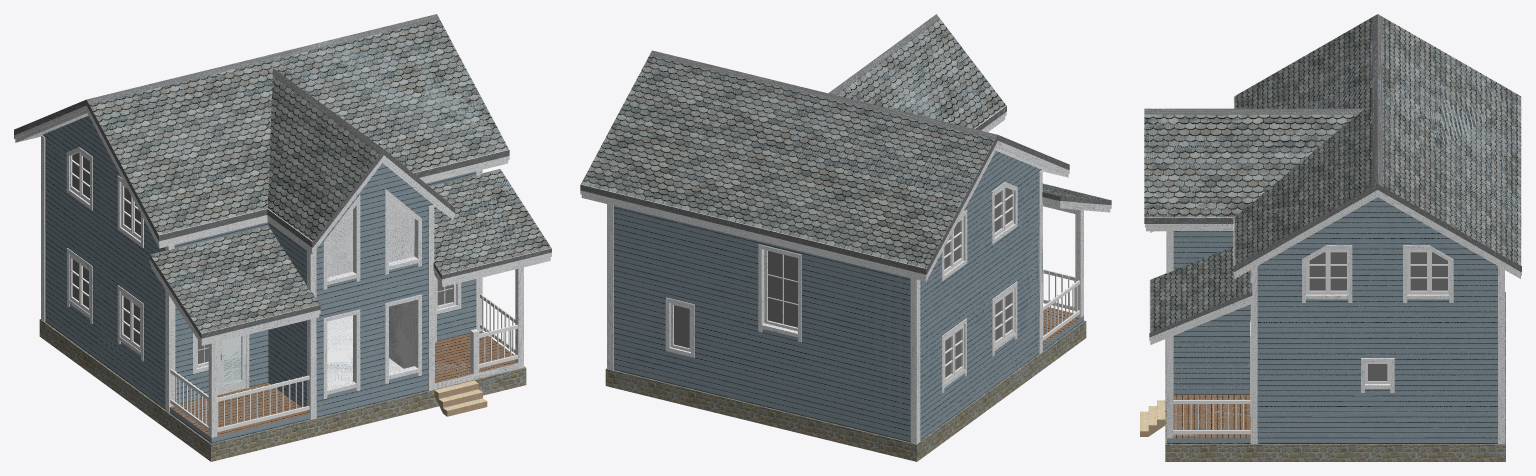
Rendered from Питер.dae.
The picture shows the model from 3 angles, left to right: view 1: azimuth 30°, elevation 25°; view 2: azimuth 150°, elevation 25°; view 3: azimuth 270°, elevation 25°; orthographic projection.
Parts seen in each view (by area): view 1: SketchUp (×25), Lectnica_90_45, Component_7, White_Railing, window_100_x_100_cm; view 2: SketchUp (×17), window_100_x_100_cm (×2); view 3: SketchUp (×17), group_9 (×2), White_Railing (×2).
Boxes of the visible parts, x1=… form: SketchUp (×25): x1=14, y1=14, x2=551, y2=461; Lectnica_90_45: x1=434, y1=383, x2=487, y2=416; Component_7: x1=219, y1=335, x2=245, y2=394; White_Railing: x1=264, y1=375, x2=309, y2=420; window_100_x_100_cm: x1=117, y1=285, x2=143, y2=361; SketchUp (×17): x1=580, y1=14, x2=1111, y2=461; window_100_x_100_cm (×2): x1=941, y1=281, x2=1017, y2=393; SketchUp (×17): x1=1144, y1=14, x2=1521, y2=461; group_9 (×2): x1=1307, y1=250, x2=1449, y2=293; White_Railing (×2): x1=1173, y1=399, x2=1250, y2=434.
Size of the model in its own units: 376 by 357 by 295.
17 materials, 9 textured.
